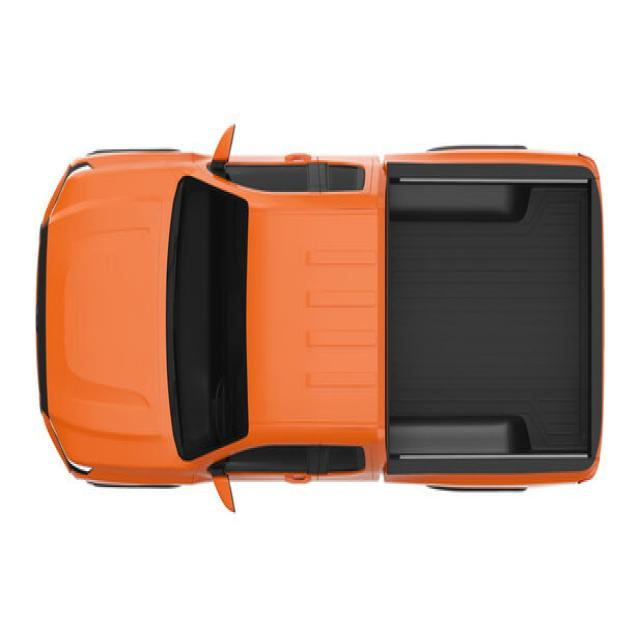truck: (37, 148, 608, 489)
